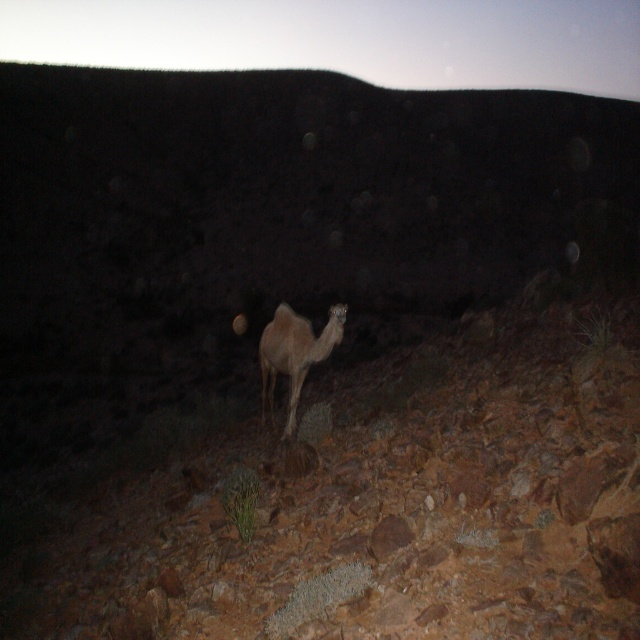Camel: (251, 295, 353, 455)
